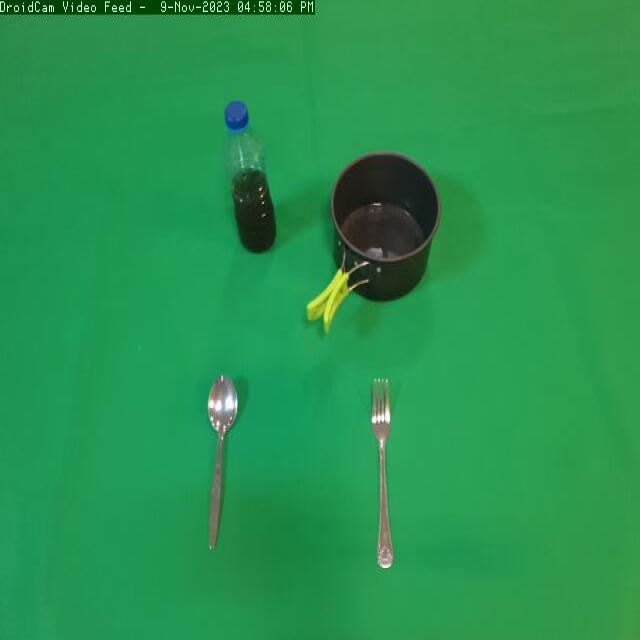fork: (357, 368, 415, 593)
fullbottle: (217, 76, 287, 280)
pot: (301, 136, 448, 343)
spoon: (193, 366, 247, 558)
